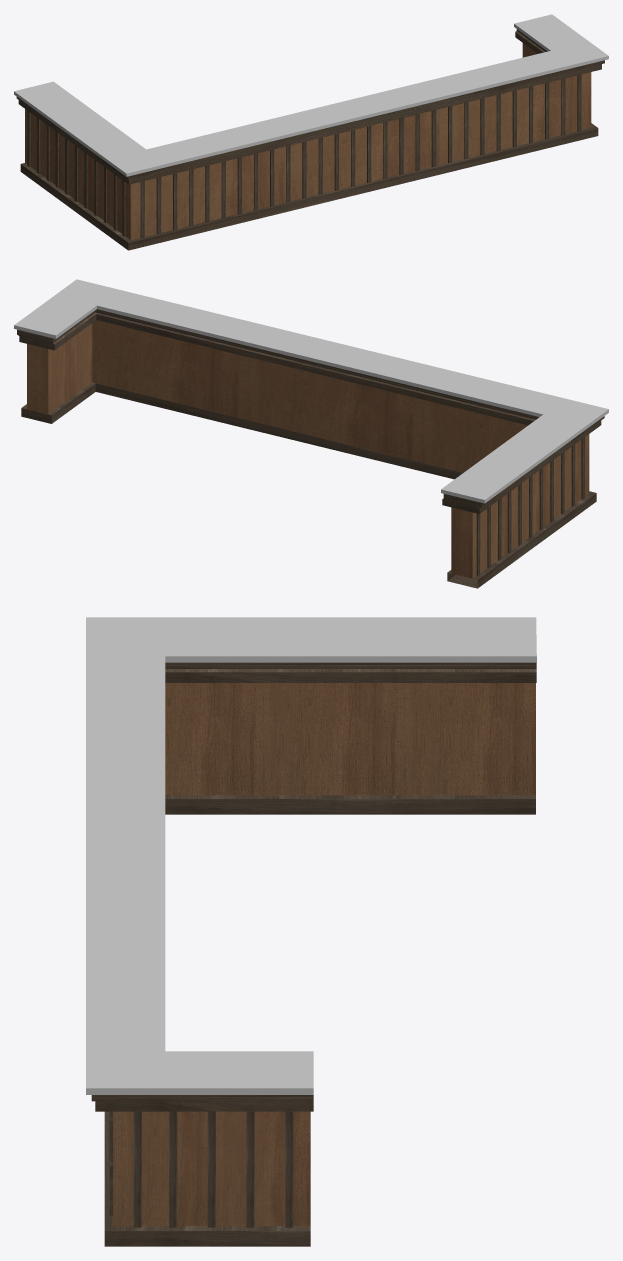
File: Bar structure 1 fix.fbx
3 views of the same model, one above another, from view 1: azimuth 30°, elevation 25°; view 2: azimuth 150°, elevation 25°; view 3: azimuth 270°, elevation 25° (orthographic). The views are drawn at different scales.
Visible parts, largest first — view 1: bar structure 1; view 2: bar structure 1; view 3: bar structure 1.
Part boxes in pixels (x1,y1,x2,y2): bar structure 1: (14,14,608,250); bar structure 1: (14,279,608,588); bar structure 1: (86,617,536,1246).
Bounding box in the file's own units: 6461 × 1049 × 2614.
